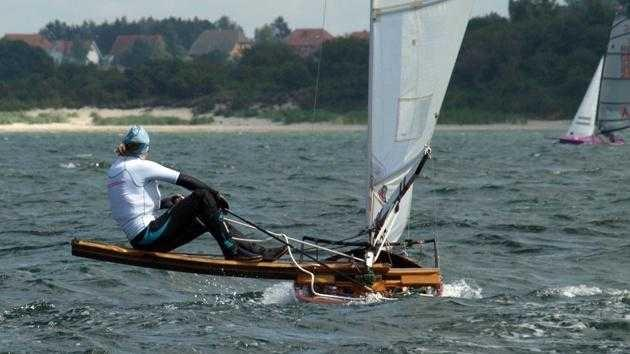kayak: (82, 1, 466, 301), (70, 236, 440, 284), (558, 6, 630, 145)
